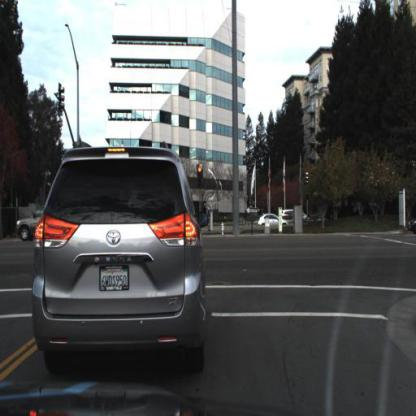car: (33, 141, 207, 376), (16, 204, 73, 244), (256, 210, 291, 229), (405, 205, 416, 239)
pedestrian: (245, 209, 252, 234)
trafficLight-Red: (196, 163, 204, 189)
